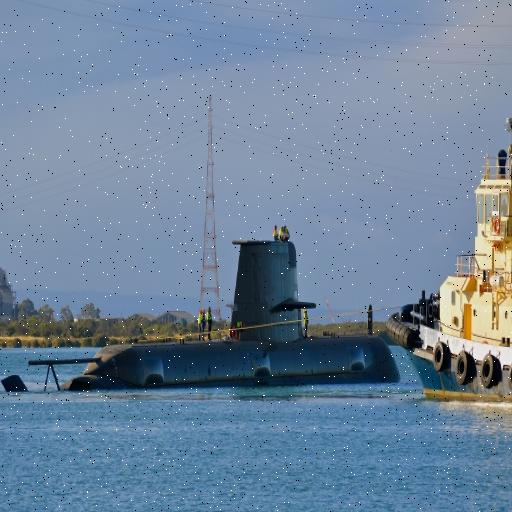submarine: (3, 238, 401, 393)
